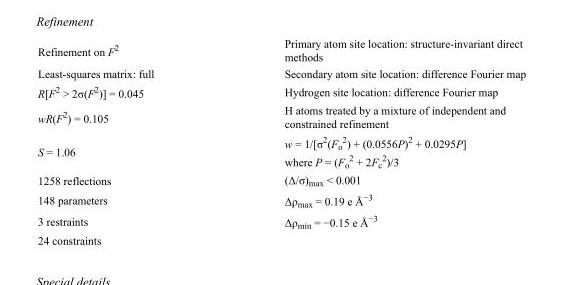table: (37, 36, 525, 246)
table column: (218, 36, 525, 246), (37, 36, 218, 246)
table row: (37, 131, 525, 171), (37, 101, 525, 131), (37, 36, 525, 64), (37, 189, 525, 210), (37, 210, 525, 231), (37, 81, 525, 101), (37, 171, 525, 189), (37, 64, 525, 81), (37, 231, 525, 246)
